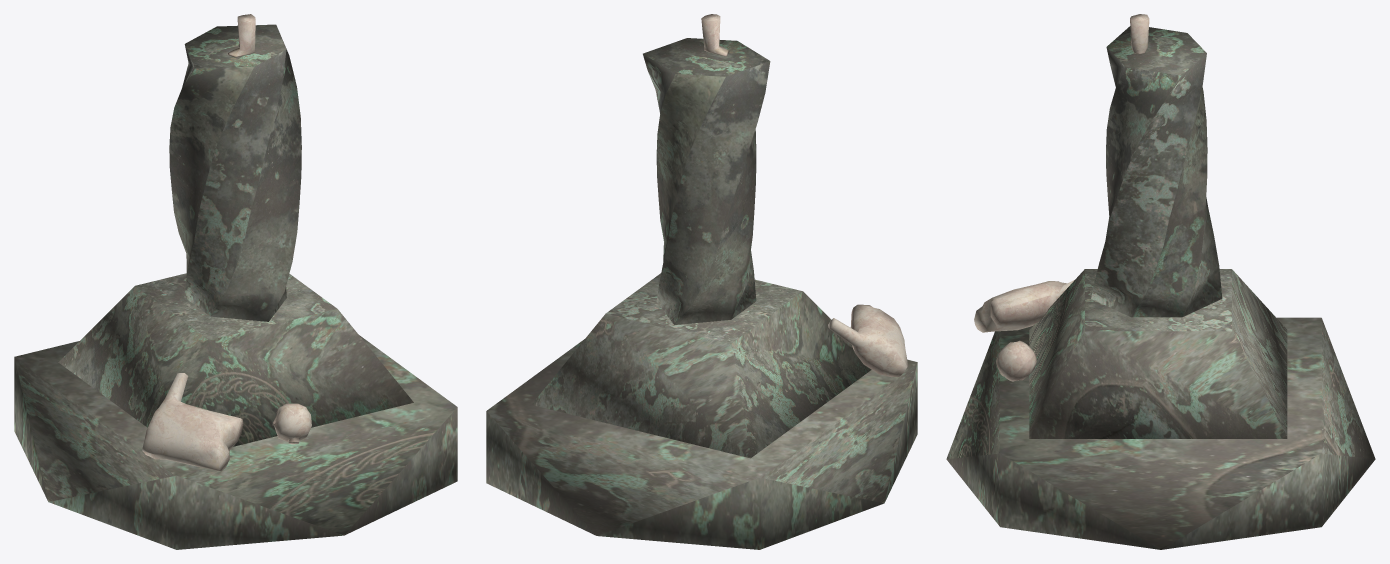
The model's file is tower-colon3.fbx.
The picture shows the model from 3 angles, left to right: view 1: azimuth 30°, elevation 25°; view 2: azimuth 150°, elevation 25°; view 3: azimuth 270°, elevation 25°; orthographic projection. The views are drawn at different scales.
Visible parts, largest first — view 1: tower-colon; view 2: tower-colon; view 3: tower-colon.
Part boxes in pixels (x1=…): tower-colon: x1=14, y1=14, x2=457, y2=549; tower-colon: x1=486, y1=14, x2=917, y2=549; tower-colon: x1=946, y1=14, x2=1375, y2=549.
Bounding box in the file's own units: 579 × 579 × 658.
